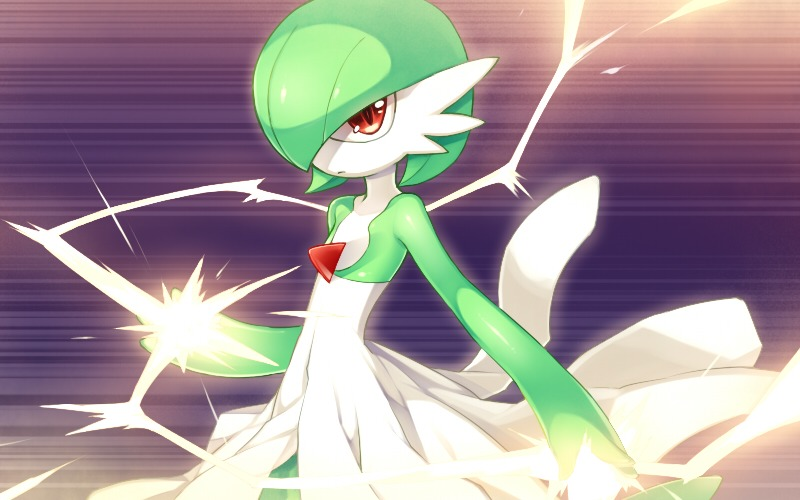gardevoir: (93, 2, 706, 500)
